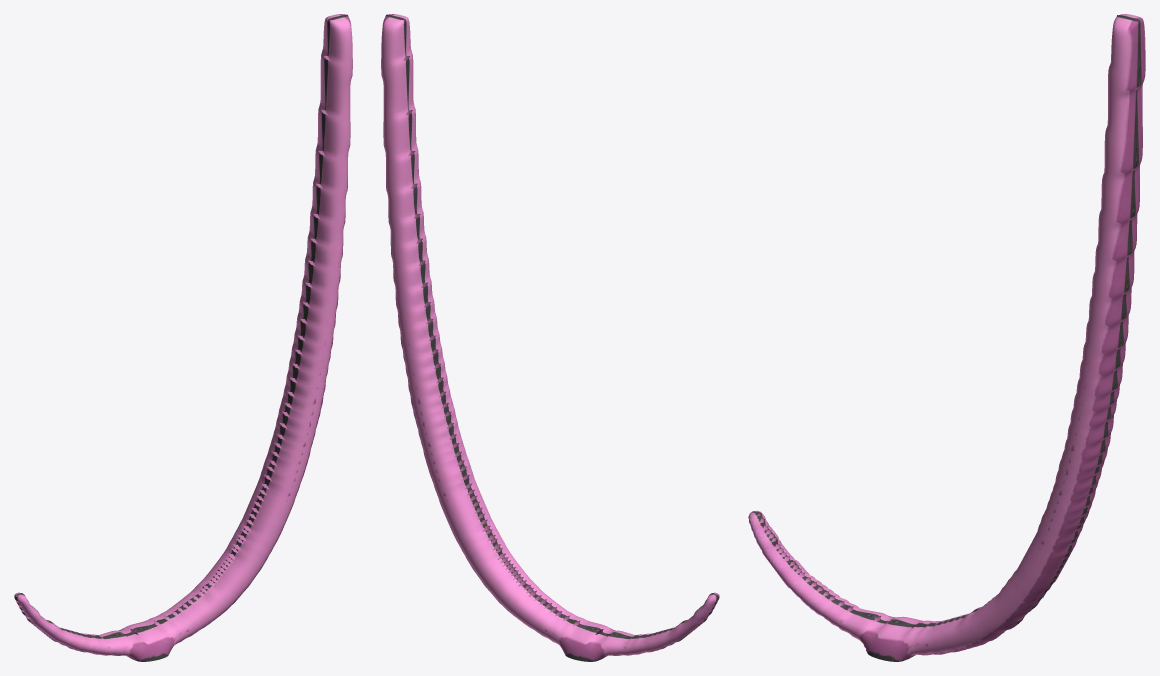
The model's file is hanging_tendril.glb.
3 renders of one model, left to right at view 1: azimuth 30°, elevation 25°; view 2: azimuth 150°, elevation 25°; view 3: azimuth 330°, elevation 25°, orthographic. The views are drawn at different scales.
Visible parts, largest first — view 1: hanging_tendril; view 2: hanging_tendril; view 3: hanging_tendril.
Part boxes in pixels (x1,y1,x2,y2): hanging_tendril: (14,14,352,661); hanging_tendril: (381,14,719,661); hanging_tendril: (748,14,1145,661).
Bounding box in the file's own units: 0.9813 × 1.65 × 0.1523.
Materials: 1 (1 with a texture image).
